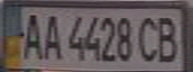2: (100, 12, 118, 62)
4: (81, 11, 103, 62), (63, 11, 84, 62)
8: (115, 12, 136, 63)
A: (18, 9, 45, 61), (39, 10, 66, 61)
B: (151, 12, 184, 64)
C: (136, 12, 163, 63)
